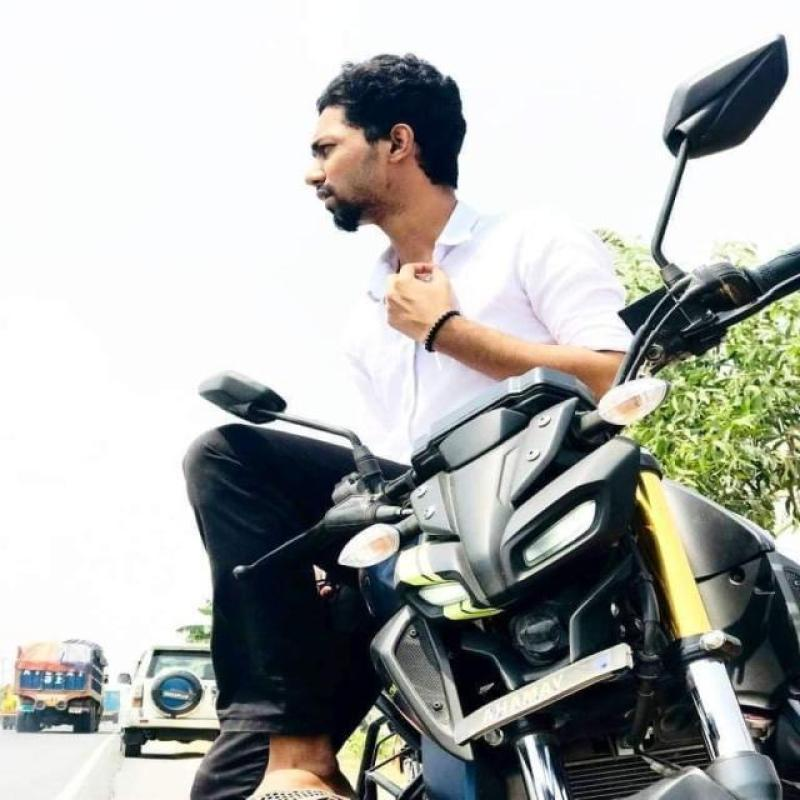nohelmet: (297, 70, 459, 239)
